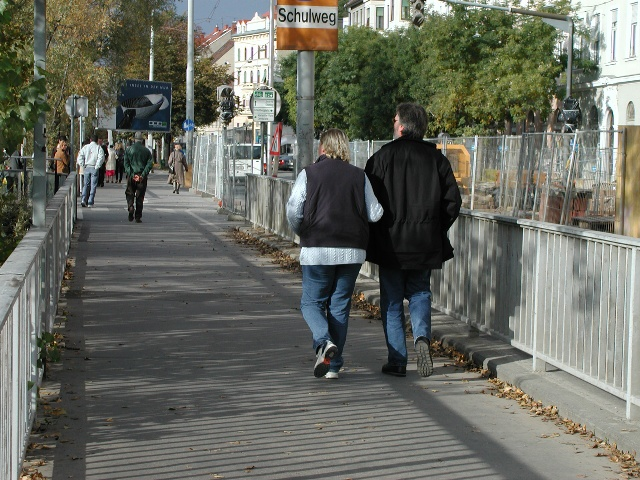person: (367, 104, 460, 376), (280, 128, 382, 376), (121, 126, 152, 222), (74, 133, 104, 208)
